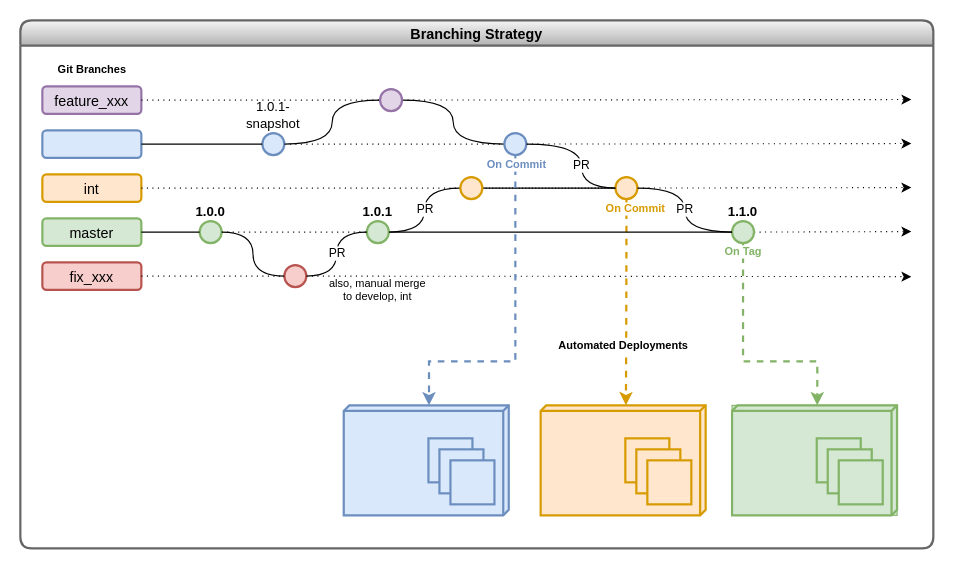
The diagram is 953 pixels wide and 568 high, and some of its shapes have lost their labels. The shapes that lost their labels are listed below. From the top down, each one's box as (x1, y1, x2, y2) in pixels, then its label:
(41, 129, 142, 158): develop
(459, 175, 483, 200): 1.1.0-snapshot
(342, 404, 509, 516): DEV Instance
(539, 404, 706, 516): E2E Instance
(730, 404, 898, 516): PRD Instance
